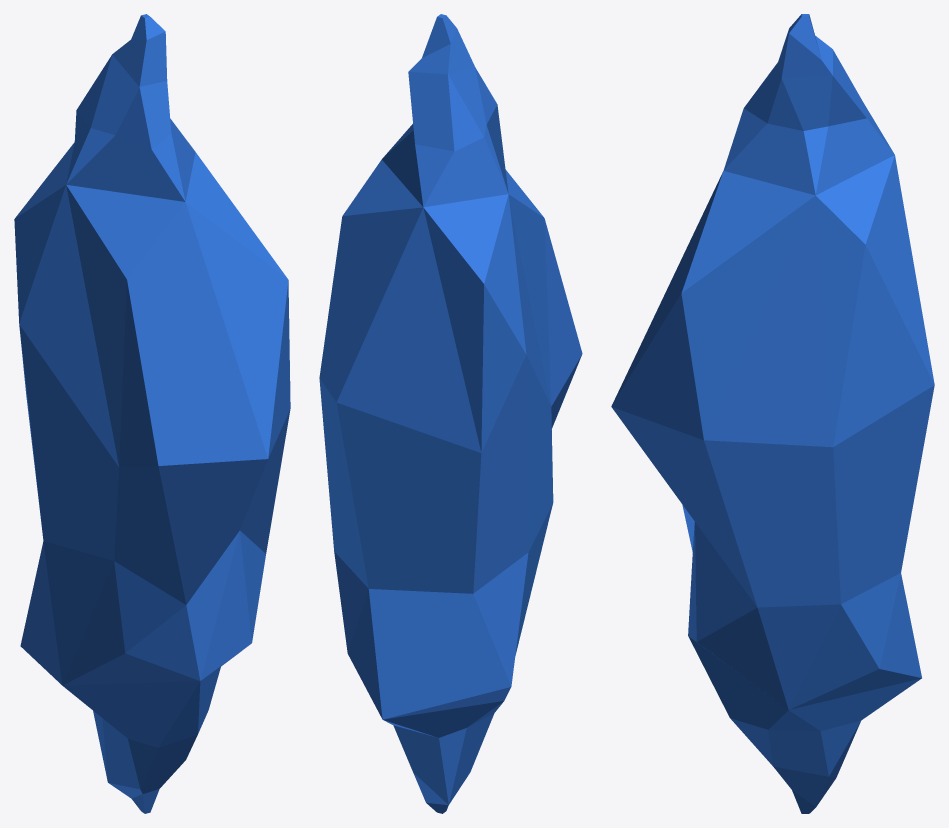
Rendered from LifeCrystal.fbx.
3 views of the same model, side by side, from view 1: azimuth 30°, elevation 25°; view 2: azimuth 150°, elevation 25°; view 3: azimuth 270°, elevation 25° (orthographic).
Parts seen in each view (by area): view 1: Cube; view 2: Cube; view 3: Cube.
Boxes of the visible parts, x1=… form: Cube: x1=14, y1=14, x2=290, y2=813; Cube: x1=319, y1=14, x2=582, y2=813; Cube: x1=611, y1=14, x2=934, y2=813.
Bounding box in the file's own units: 57.46 × 204 × 75.08.
